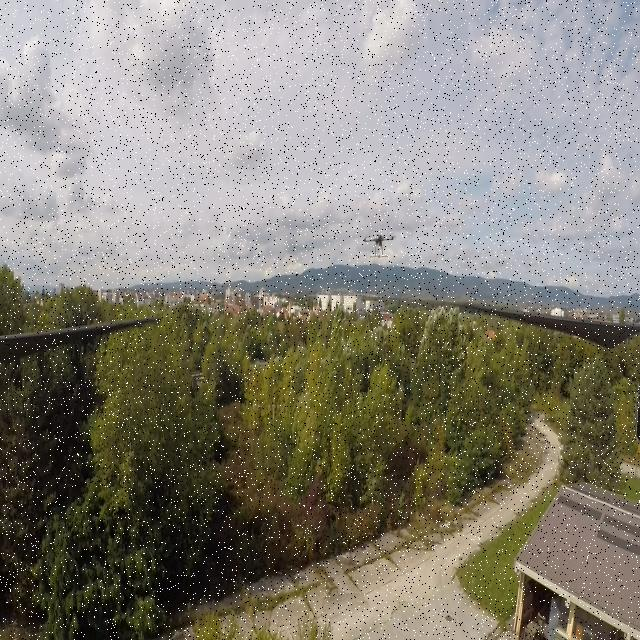UAV: (363, 228, 399, 262)
